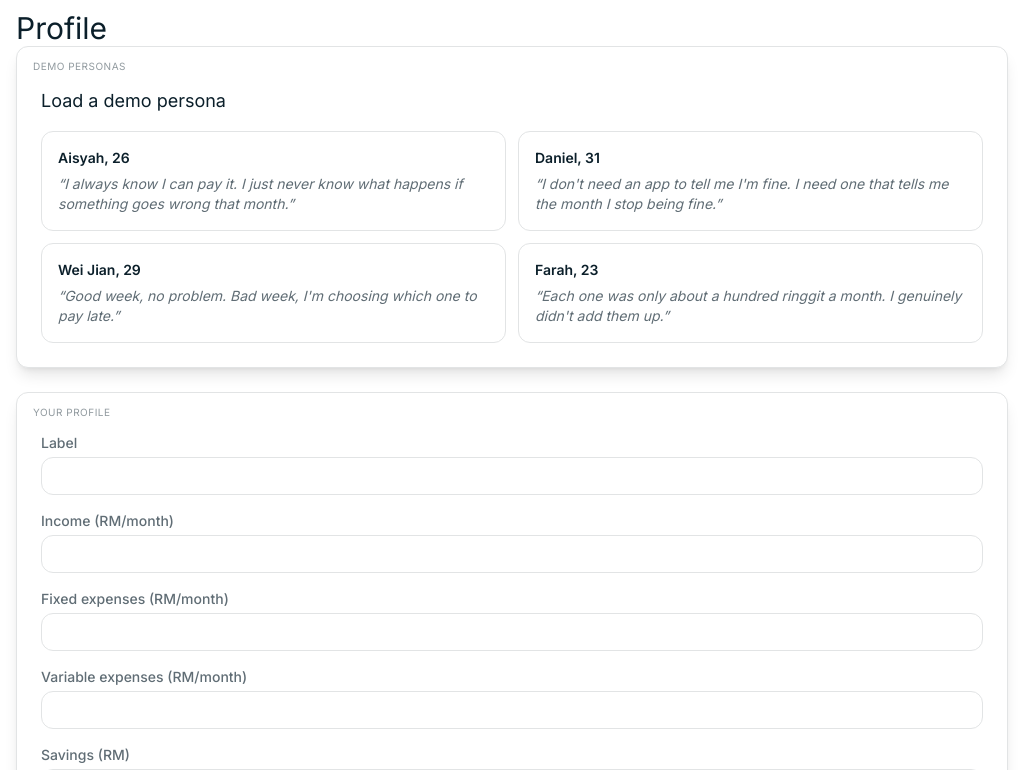
ProfilePage › loading a demo persona populates the form without saving to the backend
Click the button "Aisyah" at (274, 181), box [41, 131, 506, 231]
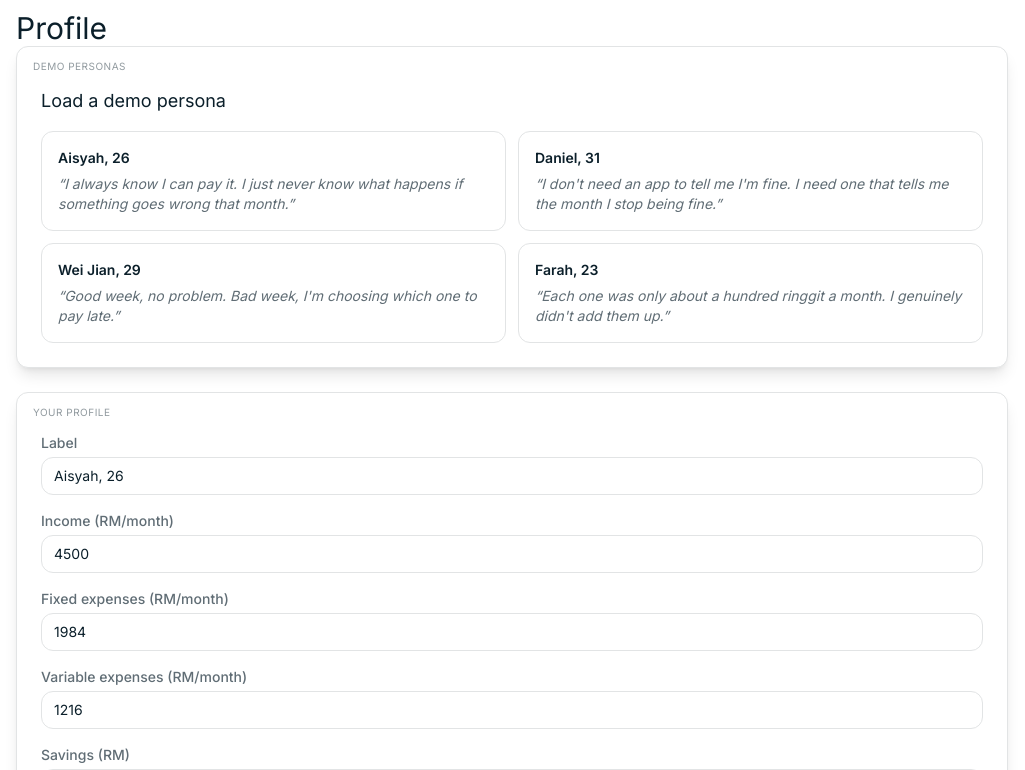
Check: the number field labelled "Income (RM/month)" holds "4500", box [41, 535, 983, 573]
